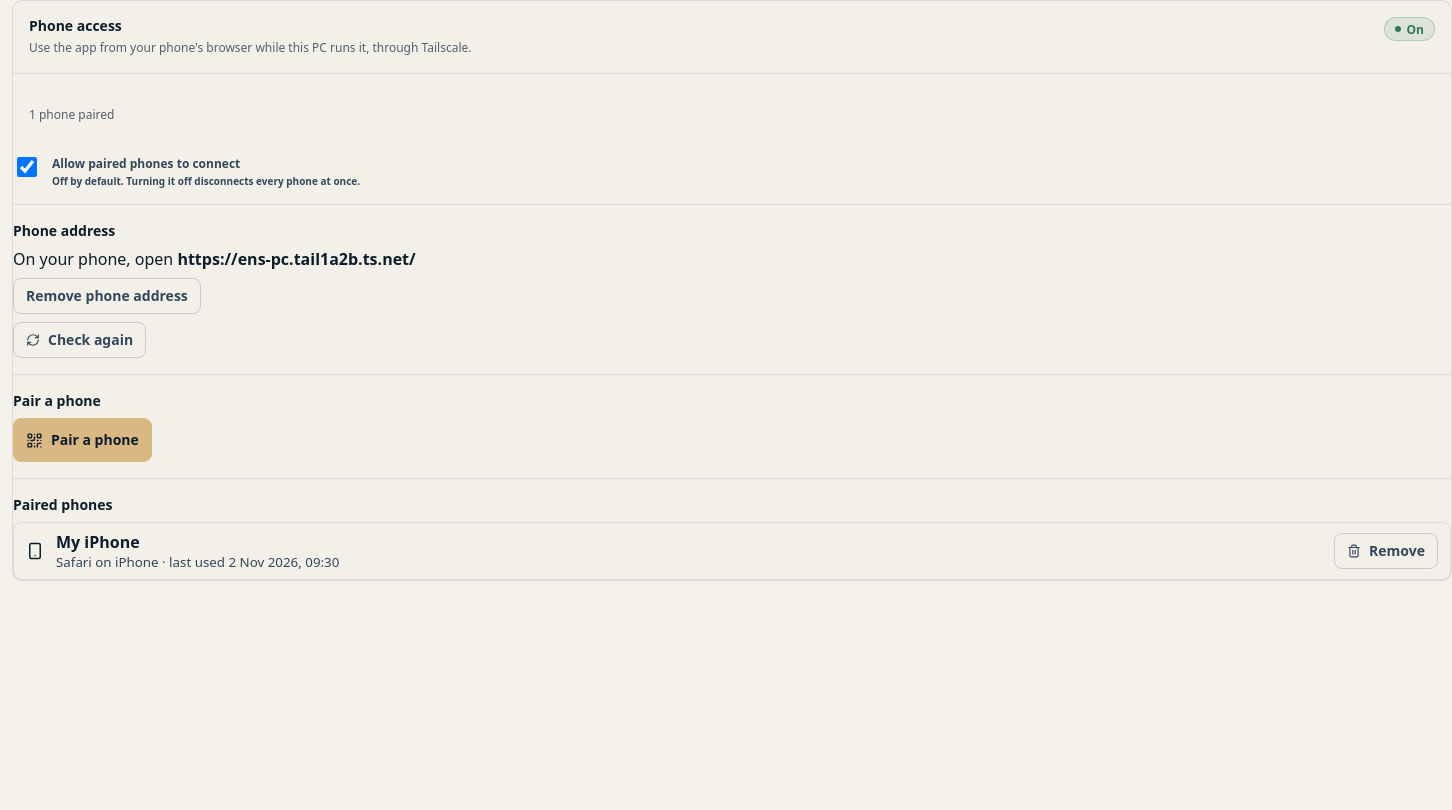
Test: PhoneAccessPanel › removes a paired phone
What coordinates should you click on to do the following:
click the button "Remove"
I would click on:
 (1386, 551)
Its box is [1334,533,1438,569].
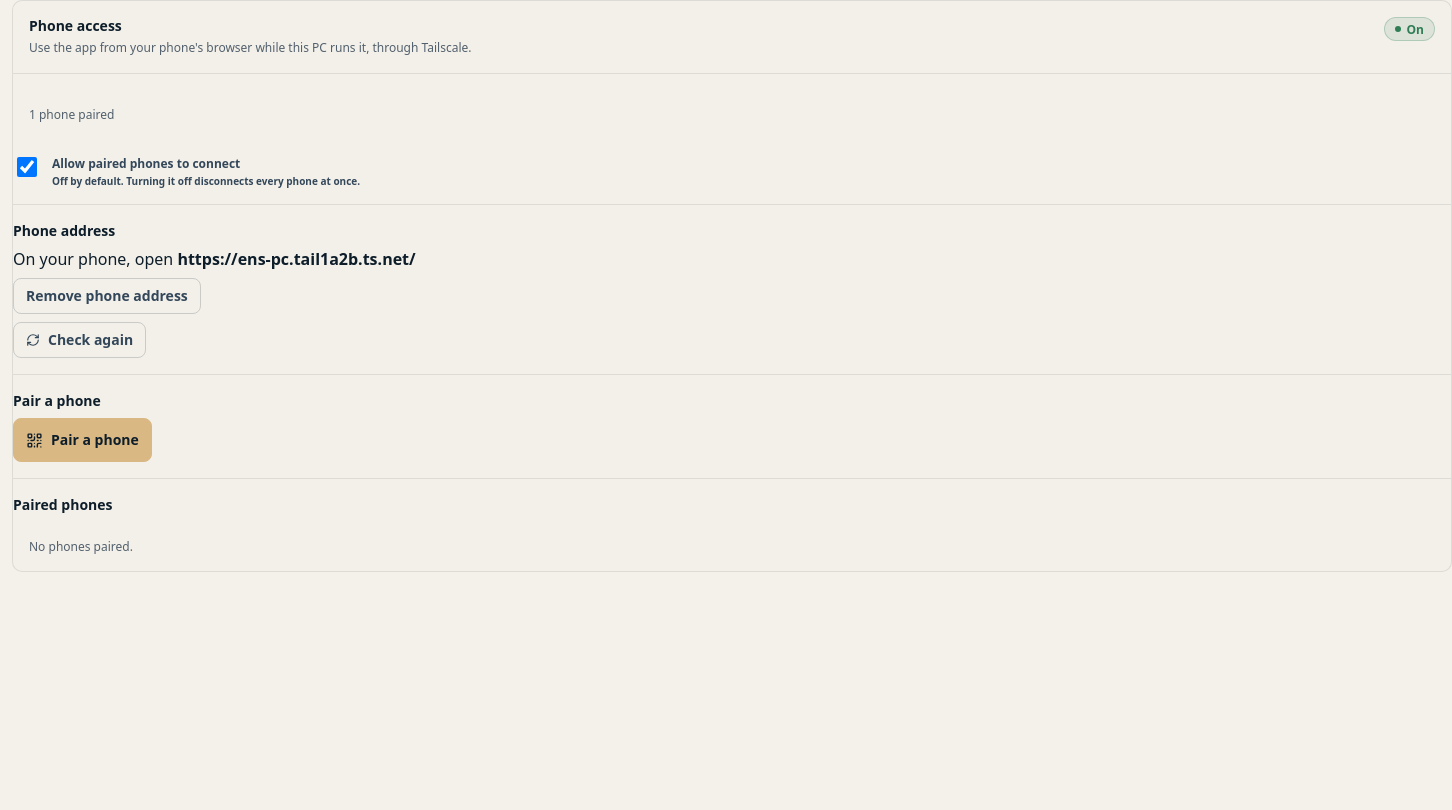
Expected: the text "No phones paired." is shown, [29,538,133,555]
